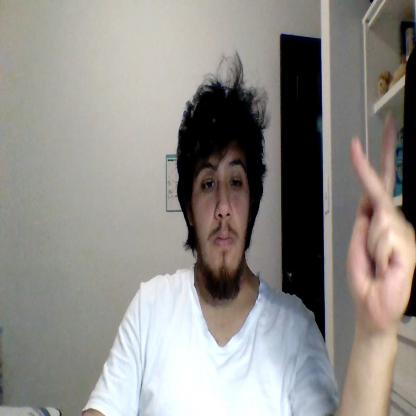P: (347, 114, 415, 331)
